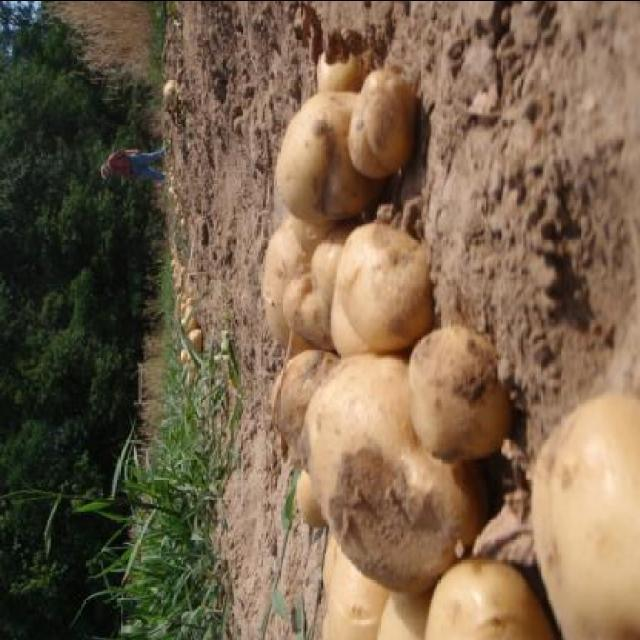Potato: (331, 208, 437, 354)
